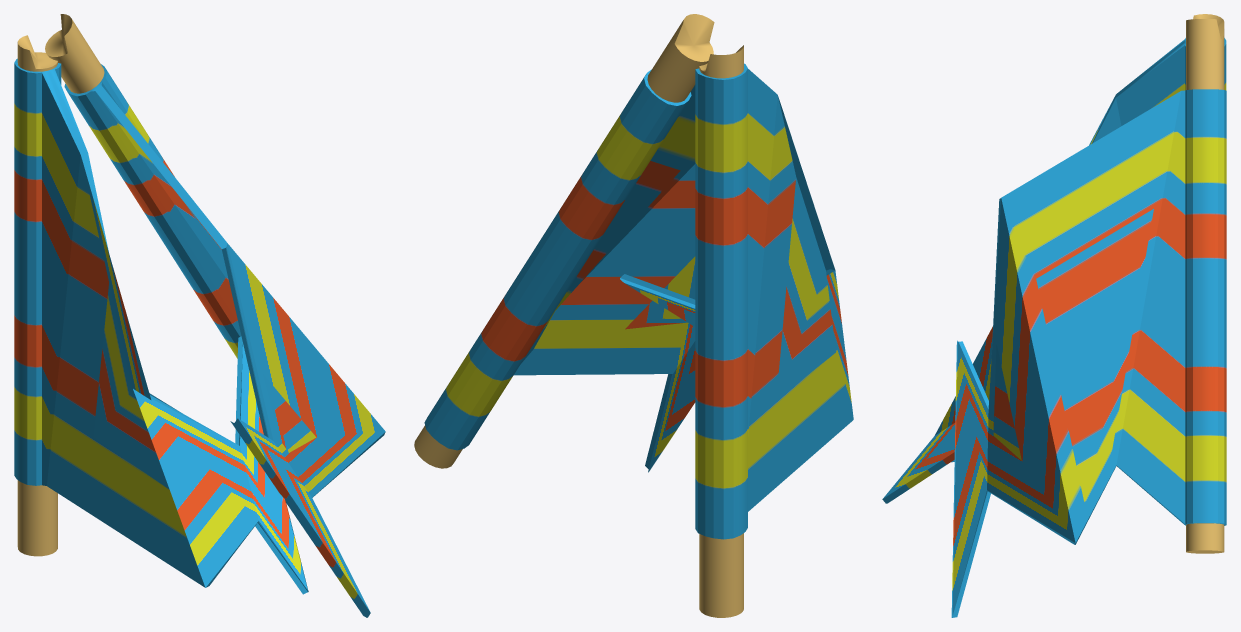
Rendered from WindBreaker_Broken.fbx.
3 views of the same model, side by side, from view 1: azimuth 30°, elevation 25°; view 2: azimuth 150°, elevation 25°; view 3: azimuth 270°, elevation 25° (orthographic). The views are drawn at different scales.
Parts seen in each view (by area): view 1: pCylinder5; view 2: pCylinder5; view 3: pCylinder5.
Boxes of the visible parts, left/top/right/bottom form: pCylinder5: left=14, top=14, right=385, bottom=617; pCylinder5: left=414, top=14, right=853, bottom=617; pCylinder5: left=882, top=14, right=1226, bottom=617.
Size of the model in its own units: 0.5146 by 0.896 by 0.5358.
Materials: 2 (1 with a texture image).
